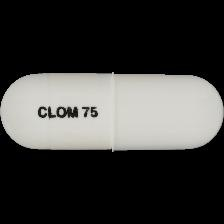60429-288: (0, 0, 224, 224)
